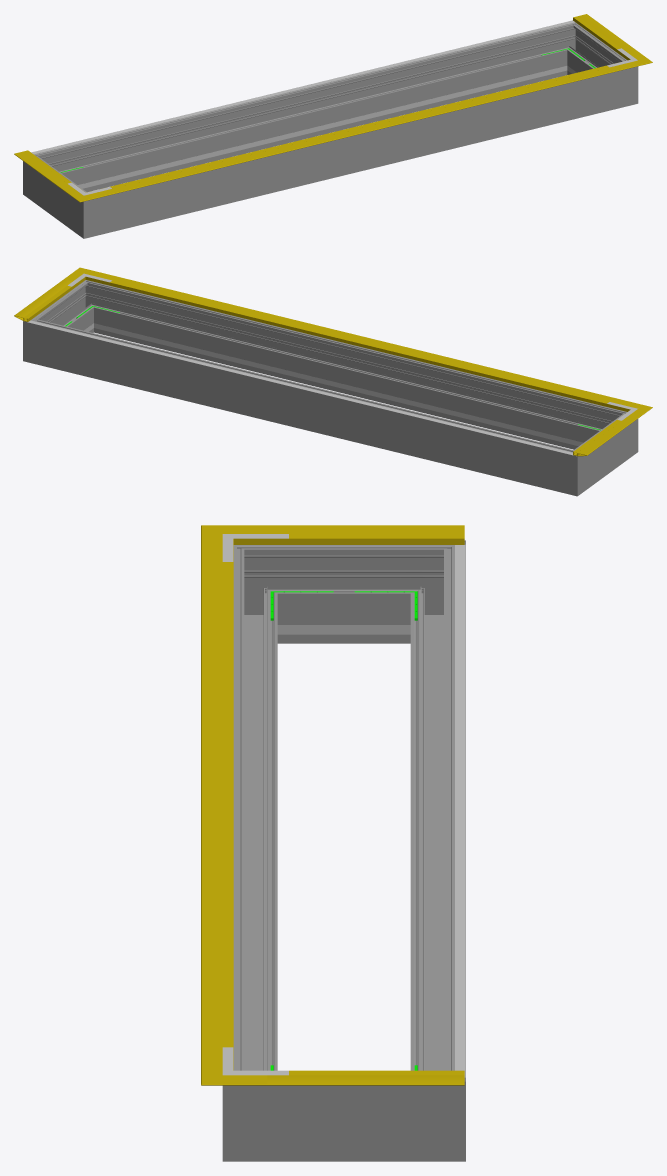
3 views of the same model, one above another, from view 1: azimuth 30°, elevation 25°; view 2: azimuth 150°, elevation 25°; view 3: azimuth 270°, elevation 25° (orthographic). The views are drawn at different scales.
Parts seen in each view (by area): view 1: 3DGeom-276, 3DGeom-298, 3DGeom-141, 3DGeom-244, 3DGeom-220, 3DGeom-270, 3DGeom-158, 3DGeom-290, 3DGeom-284, 3DGeom-268, 3DGeom-297, 3DGeom-278 (+2 smaller); view 2: 3DGeom-298, 3DGeom-276, 3DGeom-141, 3DGeom-239, 3DGeom-278, 3DGeom-220, 3DGeom-158, 3DGeom-284, 3DGeom-290, 3DGeom-297, 3DGeom-268, 3DGeom-270 (+3 smaller); view 3: 3DGeom-276, 3DGeom-298, 3DGeom-141, 3DGeom-268, 3DGeom-297, 3DGeom-158, 3DGeom-220, 3DGeom-284, 3DGeom-290, 3DGeom-278, 3DGeom-270, 3DGeom-147 (+4 smaller).
Boxes of the visible parts, <box> form: 3DGeom-276: <box>54,28,562,192</box>; 3DGeom-298: <box>112,73,609,231</box>; 3DGeom-141: <box>103,65,624,195</box>; 3DGeom-244: <box>88,72,539,187</box>; 3DGeom-220: <box>31,20,574,154</box>; 3DGeom-270: <box>67,184,112,238</box>; 3DGeom-158: <box>110,65,608,188</box>; 3DGeom-290: <box>609,53,638,110</box>; 3DGeom-284: <box>551,22,589,75</box>; 3DGeom-268: <box>39,164,76,226</box>; 3DGeom-297: <box>570,32,616,74</box>; 3DGeom-278: <box>23,149,65,206</box>; 3DGeom-298: <box>98,285,606,449</box>; 3DGeom-276: <box>51,324,553,489</box>; 3DGeom-141: <box>100,274,623,408</box>; 3DGeom-239: <box>121,330,572,444</box>; 3DGeom-278: <box>549,442,593,496</box>; 3DGeom-220: <box>27,320,572,455</box>; 3DGeom-158: <box>110,280,609,403</box>; 3DGeom-284: <box>23,310,56,367</box>; 3DGeom-290: <box>72,280,109,333</box>; 3DGeom-297: <box>44,290,90,332</box>; 3DGeom-268: <box>585,422,621,483</box>; 3DGeom-270: <box>596,407,638,463</box>; 3DGeom-276: <box>410,568,465,1070</box>; 3DGeom-298: <box>233,568,277,1070</box>; 3DGeom-141: <box>201,553,233,1056</box>; 3DGeom-268: <box>288,545,399,643</box>; 3DGeom-297: <box>288,1085,399,1161</box>; 3DGeom-158: <box>222,562,233,1047</box>; 3DGeom-220: <box>455,544,465,1077</box>; 3DGeom-284: <box>399,1053,465,1161</box>; 3DGeom-290: <box>222,1053,288,1161</box>; 3DGeom-278: <box>399,540,465,643</box>; 3DGeom-270: <box>233,545,288,643</box>; 3DGeom-147: <box>267,525,464,544</box>.
Size of the model in its own units: 3.05 by 0.2195 by 0.6096.
